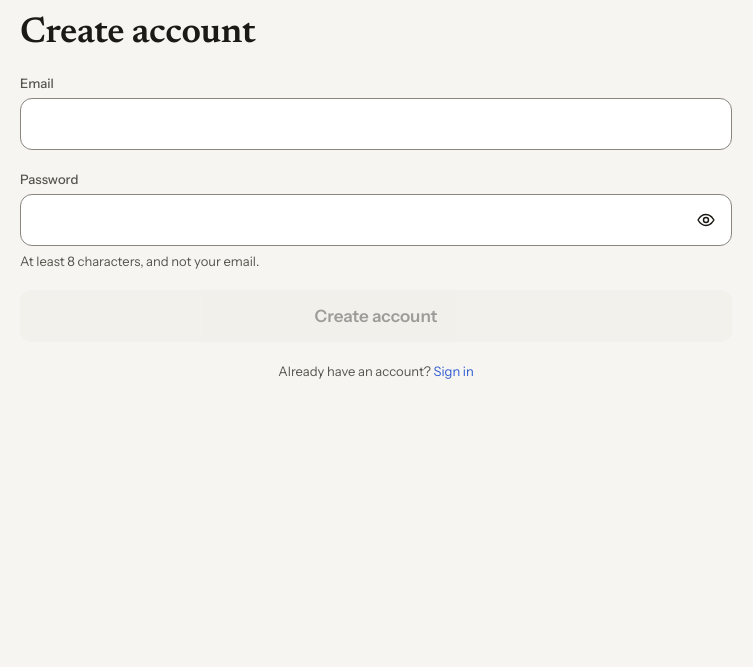
Scenario: Create account (AA-1) › T-AA-05: success opens Inbox with the welcome toast
The image size is (753, 667).
In the field labelled "Email": x=376, y=124 [20,98,732,150], type "  Example@Gmail.com"
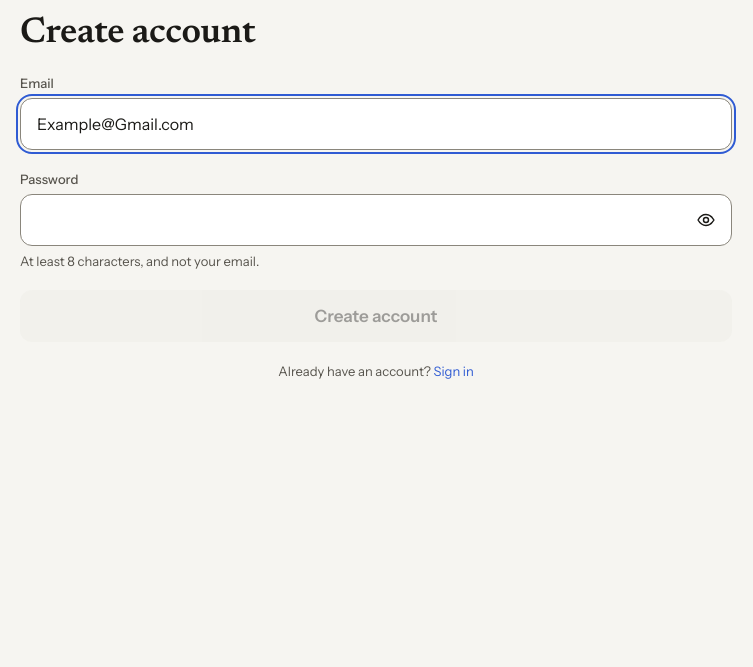
In the password field labelled "Password": x=376, y=220 [20,194,732,246], type "quiet river 42"
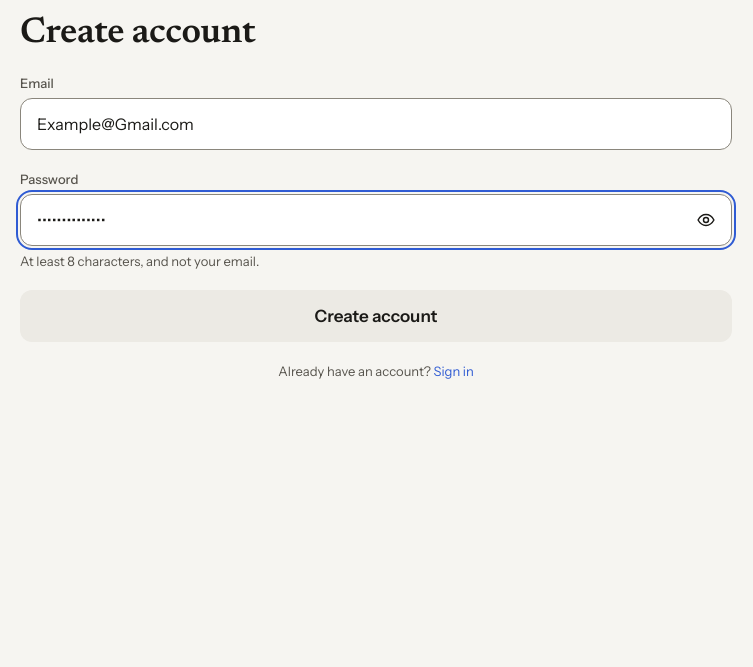
Click the button "Create account": x=376, y=316 [20,290,732,342]
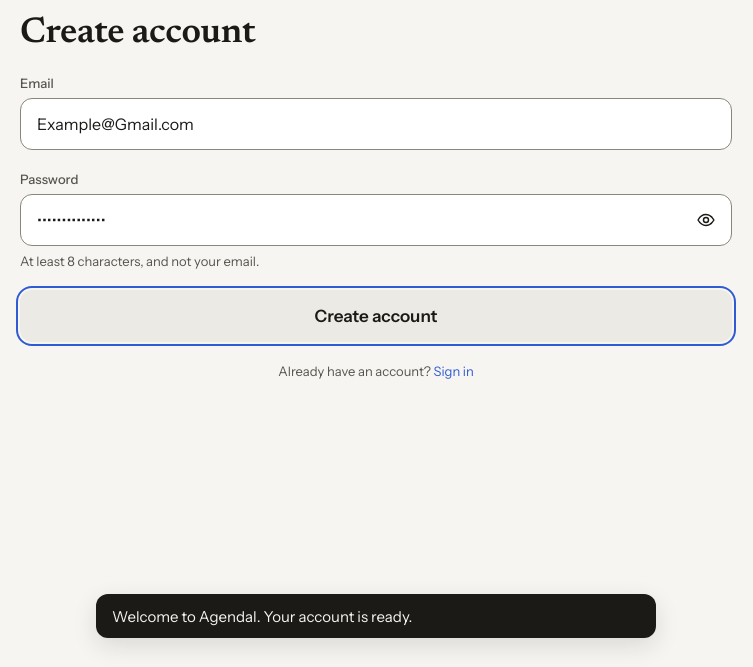
Expected: the text "Welcome to Agendal. Your account is ready." is shown, [112,606,412,626]
